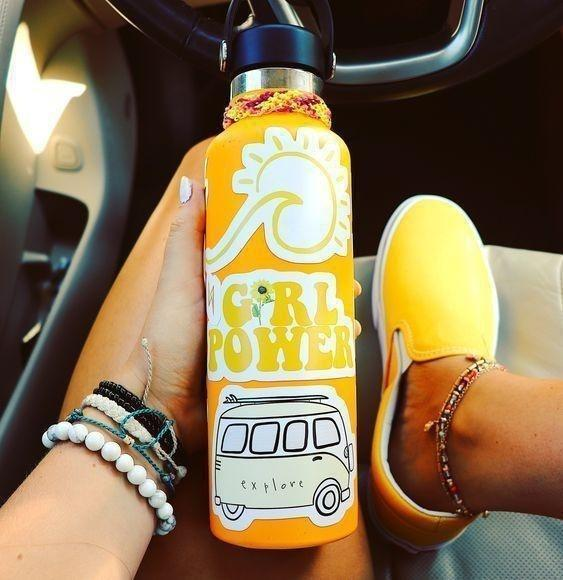gym bottle: (200, 13, 361, 553)
